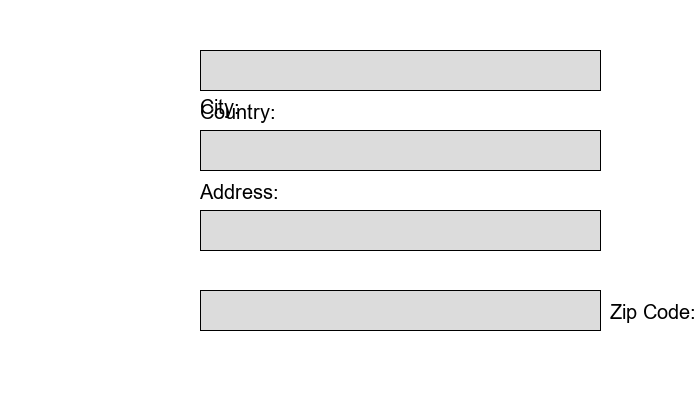Label: (610, 300, 690, 319), (200, 100, 270, 119), (200, 180, 274, 195), (200, 95, 234, 114)
Textbox: (200, 50, 600, 90), (200, 130, 600, 170), (200, 210, 600, 250), (200, 290, 600, 330)
